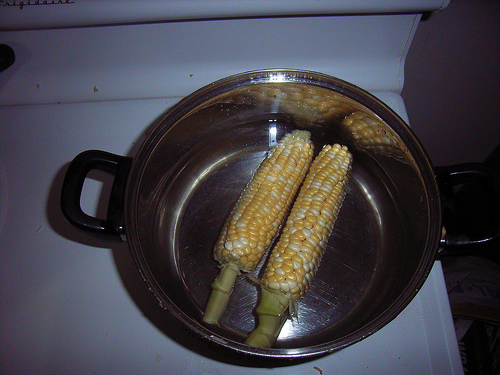corn: (244, 139, 354, 351), (201, 129, 314, 321)
